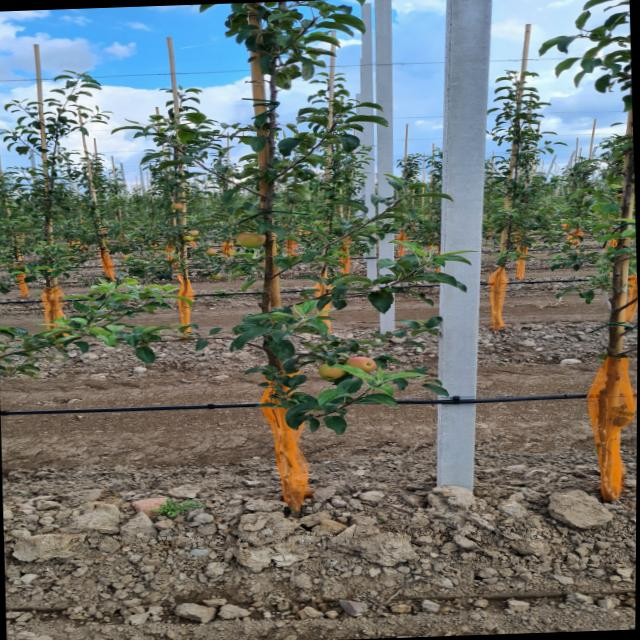Apple: (344, 356, 376, 372), (236, 231, 266, 248), (317, 364, 347, 380), (205, 247, 219, 255), (170, 203, 185, 209), (208, 273, 222, 279), (188, 229, 200, 235)
